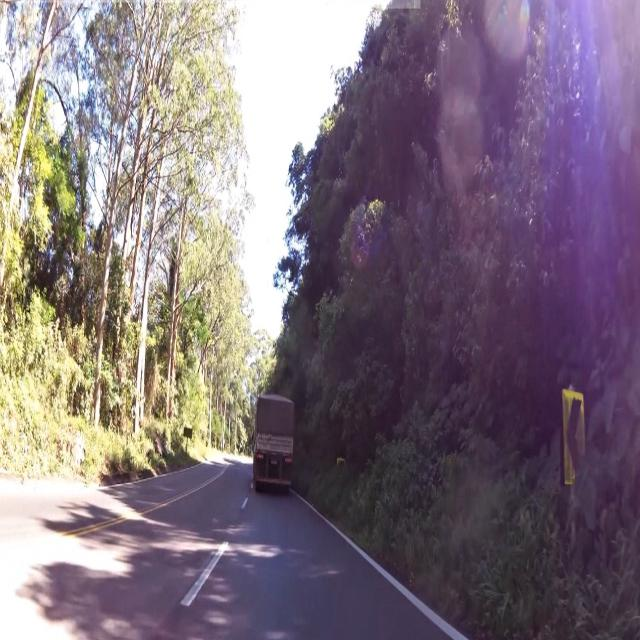Del: (560, 385, 589, 488)
